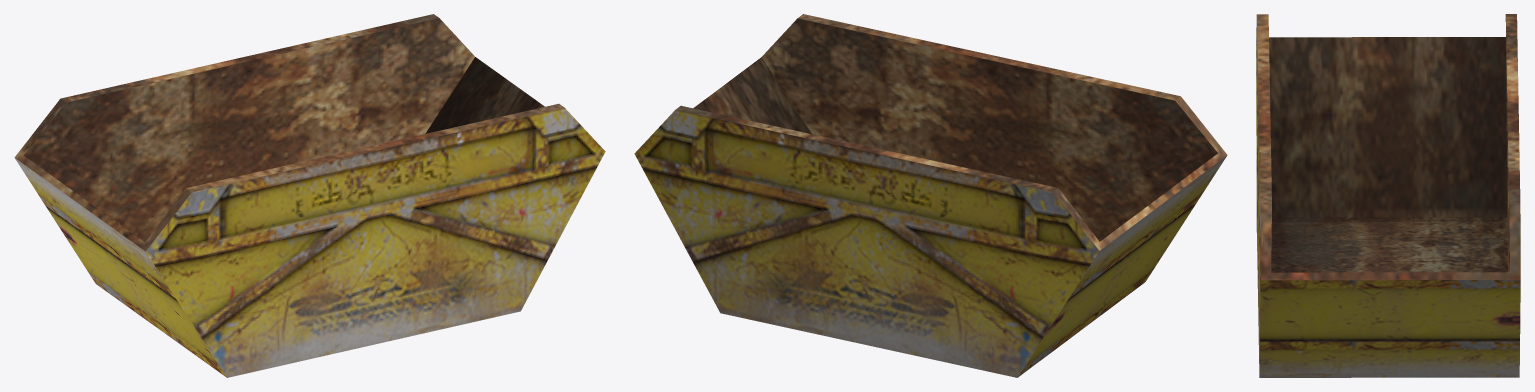
File: xiaowupin03.fbx
3 views of the same model, side by side, from view 1: azimuth 30°, elevation 25°; view 2: azimuth 150°, elevation 25°; view 3: azimuth 270°, elevation 25° (orthographic).
Visible parts, largest first — view 1: polySurface1; view 2: polySurface1; view 3: polySurface1.
Part boxes in pixels (bbox=[...]): polySurface1: bbox=[14, 14, 605, 377]; polySurface1: bbox=[634, 14, 1227, 377]; polySurface1: bbox=[1256, 14, 1520, 377].
Size of the model in its own units: 284 by 118 by 140.
Materials: 1 (1 with a texture image).
